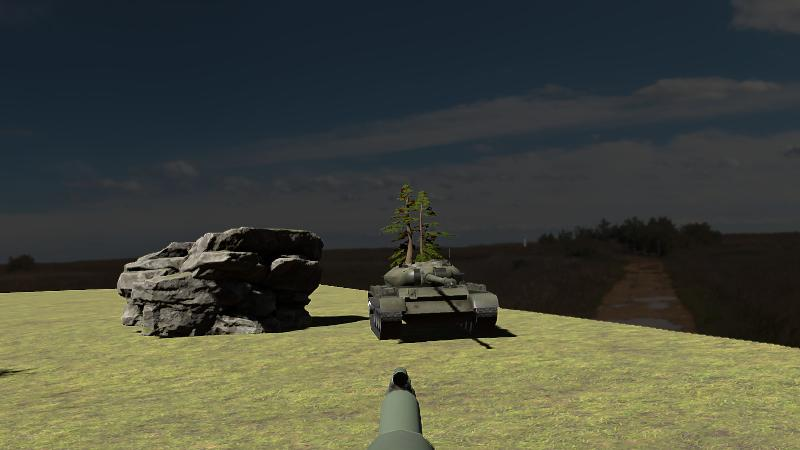Tank: (367, 258, 499, 342)
